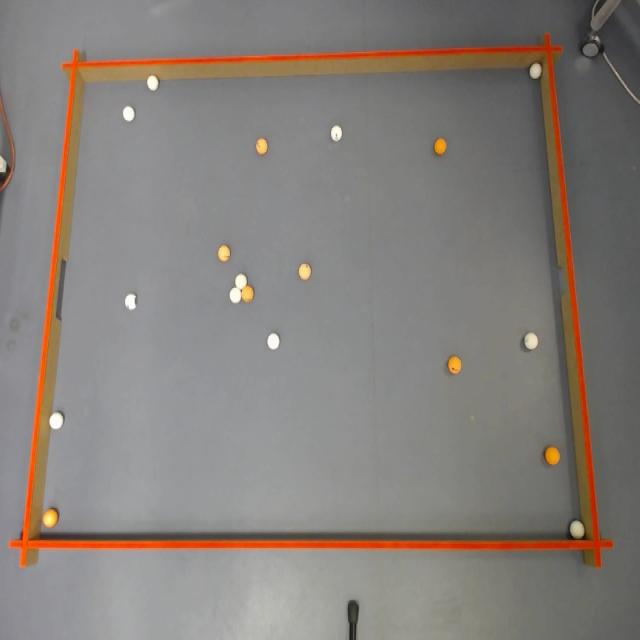orange_ball: (544, 446, 560, 466), (43, 508, 58, 528), (448, 356, 461, 374), (434, 138, 446, 155), (218, 245, 230, 262), (242, 285, 254, 302), (298, 263, 310, 279), (256, 138, 267, 155)
white_ball: (569, 520, 585, 539), (49, 412, 64, 430), (524, 332, 538, 350), (529, 62, 542, 80), (122, 106, 134, 122), (268, 333, 280, 349), (125, 294, 137, 310), (235, 273, 247, 289), (331, 125, 342, 142), (147, 75, 158, 91), (230, 288, 241, 304)
